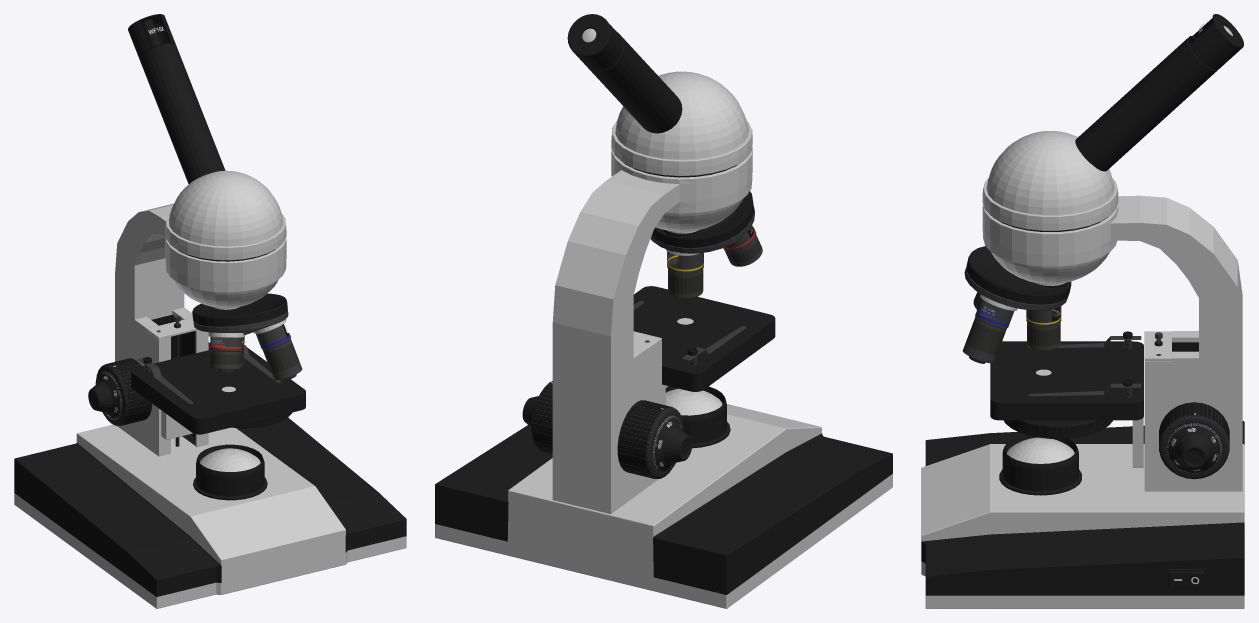
Rendered from microscope_for unity.fbx.
The picture shows the model from 3 angles, left to right: view 1: azimuth 30°, elevation 25°; view 2: azimuth 150°, elevation 25°; view 3: azimuth 270°, elevation 25°; orthographic projection. The views are drawn at different scales.
Parts seen in each view (by area): view 1: 鏡臂與底座, 載物臺, 光源底座, 物鏡60X, 粗調節輪, 物鏡4X, 細調節輪, 玻璃面, 物鏡與旋轉盤; view 2: 鏡臂與底座, 載物臺, 粗調節輪, 細調節輪, 光源底座, 物鏡10X, 玻璃面, 物鏡4X, 物鏡與旋轉盤; view 3: 鏡臂與底座, 載物臺, 光源底座, 粗調節輪, 細調節輪, 物鏡60X, 光圈, 物鏡10X, 玻璃面, 物鏡與旋轉盤, 光源開關, 玻片夾_2.
Part boxes in pixels (x1=…): 鏡臂與底座: x1=14, y1=14, x2=406, y2=608; 載物臺: x1=131, y1=347, x2=305, y2=439; 光源底座: x1=193, y1=444, x2=267, y2=500; 物鏡60X: x1=253, y1=319, x2=302, y2=380; 粗調節輪: x1=95, y1=342, x2=210, y2=425; 物鏡4X: x1=208, y1=332, x2=243, y2=372; 細調節輪: x1=88, y1=371, x2=122, y2=420; 玻璃面: x1=200, y1=448, x2=260, y2=471; 物鏡與旋轉盤: x1=193, y1=309, x2=288, y2=335; 鏡臂與底座: x1=435, y1=14, x2=892, y2=608; 載物臺: x1=633, y1=286, x2=775, y2=405; 粗調節輪: x1=531, y1=381, x2=683, y2=478; 細調節輪: x1=522, y1=396, x2=692, y2=472; 光源底座: x1=665, y1=386, x2=730, y2=448; 物鏡10X: x1=665, y1=249, x2=703, y2=298; 玻璃面: x1=665, y1=388, x2=722, y2=415; 物鏡4X: x1=723, y1=225, x2=762, y2=266; 物鏡與旋轉盤: x1=650, y1=206, x2=754, y2=253; 鏡臂與底座: x1=921, y1=14, x2=1244, y2=608; 載物臺: x1=990, y1=341, x2=1143, y2=467; 光源底座: x1=999, y1=434, x2=1081, y2=495; 粗調節輪: x1=1159, y1=402, x2=1229, y2=479; 細調節輪: x1=1166, y1=423, x2=1222, y2=473; 物鏡60X: x1=962, y1=294, x2=1017, y2=363; 光圈: x1=1003, y1=420, x2=1112, y2=438; 物鏡10X: x1=1026, y1=306, x2=1061, y2=351; 玻璃面: x1=1007, y1=437, x2=1074, y2=463; 物鏡與旋轉盤: x1=964, y1=266, x2=1068, y2=310; 光源開關: x1=1169, y1=571, x2=1203, y2=588; 玻片夾_2: x1=1027, y1=383, x2=1141, y2=396.
Bounding box in the file's own units: 205 × 358 × 200.
21 materials, 4 textured.
